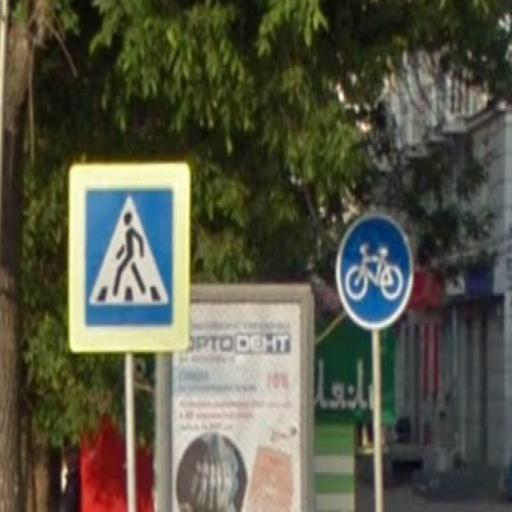traffic_sign: (69, 162, 192, 353), (335, 211, 415, 333)
